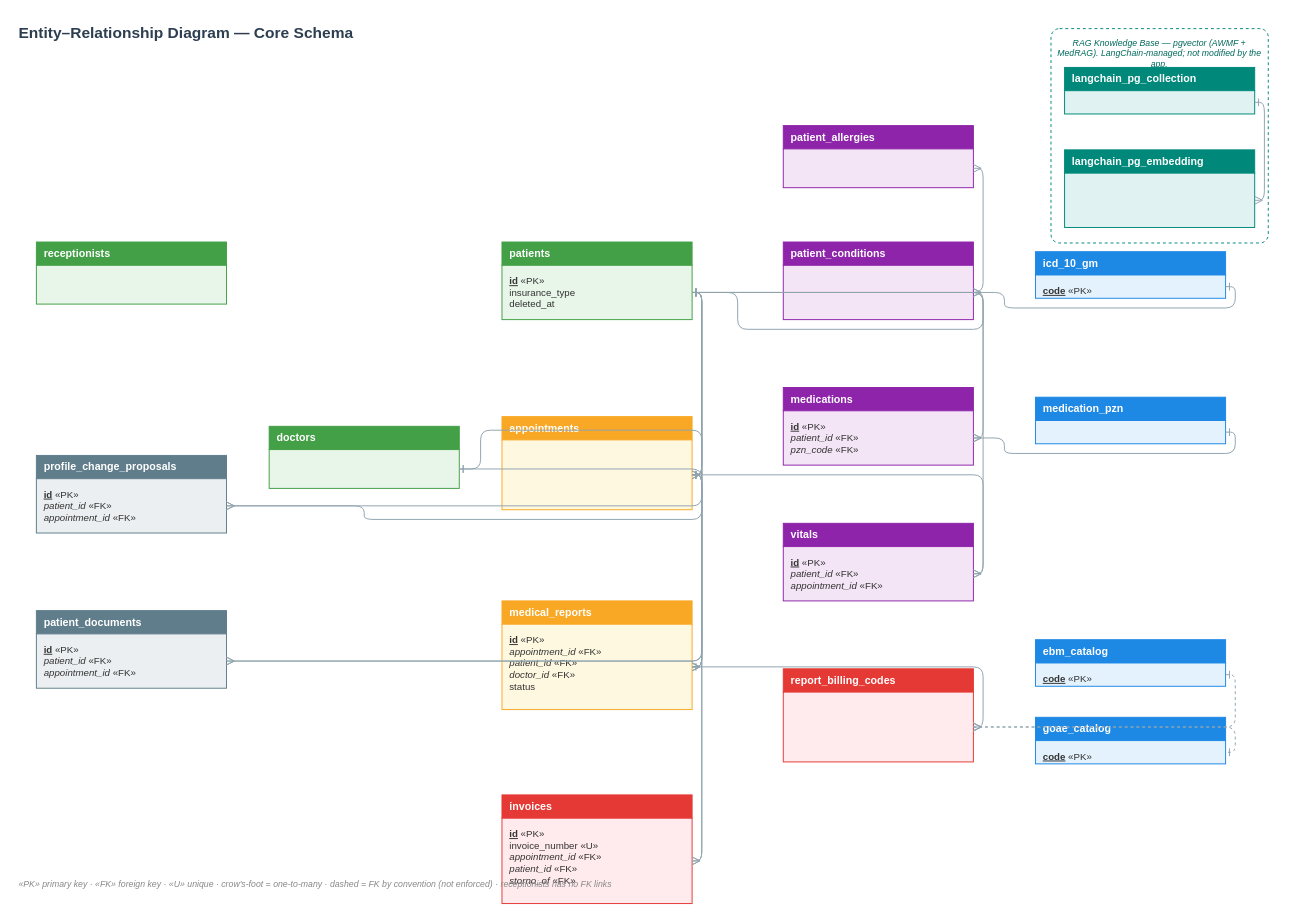
Some shapes in this 1290 by 921 pixel diagram are drawn without their labels. The centre of each missing label's shape, as x and y in pixels:
"id «PK» department" belongs at (130,284).
"id «PK» lanr" belongs at (363,468).
"id «PK» patient_id «FK»" belongs at (877,168).
"id «PK» patient_id «FK» doctor_id «FK» status" belongs at (596,474).
"id «PK» patient_id «FK» icd10_code «FK»" belongs at (877,292).
"id «PK» report_id «FK» catalog code" belongs at (877,726).
"pzn_code «PK»" belongs at (1130,432).
"uuid «PK»" belongs at (1159,102).
"uuid «PK» collection_id «FK» embedding : vector" belongs at (1159,199).
